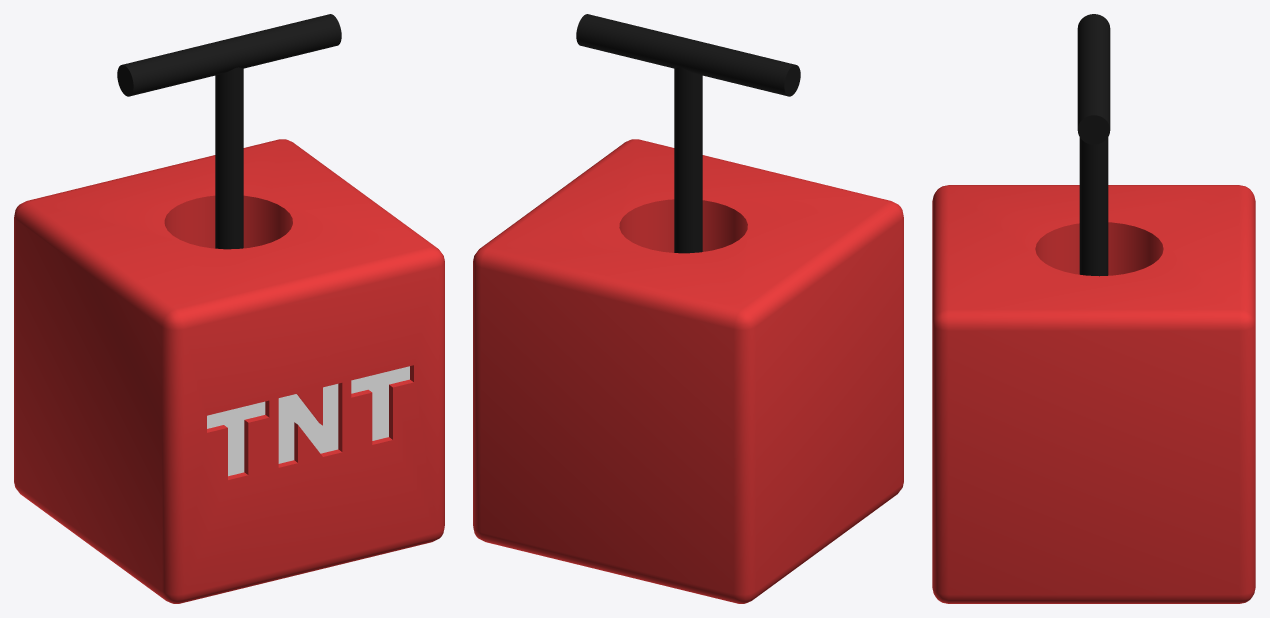
The model's file is TNT delivery.fbx.
The picture shows the model from 3 angles, left to right: view 1: azimuth 30°, elevation 25°; view 2: azimuth 150°, elevation 25°; view 3: azimuth 270°, elevation 25°; orthographic projection.
Parts seen in each view (by area): view 1: tnt; view 2: tnt; view 3: tnt.
Boxes of the visible parts, box(x1,y1,x2,y2) form: tnt: box(14, 14, 444, 603); tnt: box(473, 14, 903, 603); tnt: box(932, 14, 1255, 603).
Bounding box in the file's own units: 161 × 262 × 161.
